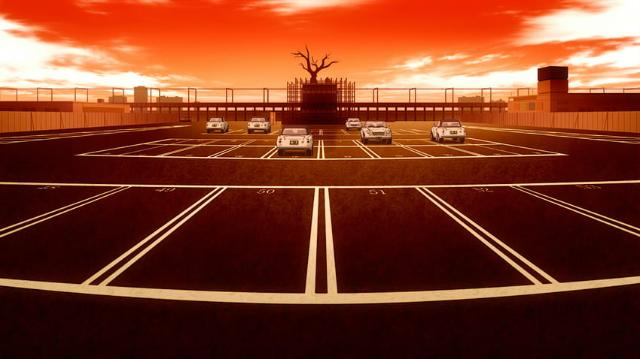Empty: (324, 184, 547, 300), (103, 189, 315, 297), (420, 185, 637, 288), (0, 187, 217, 285)
